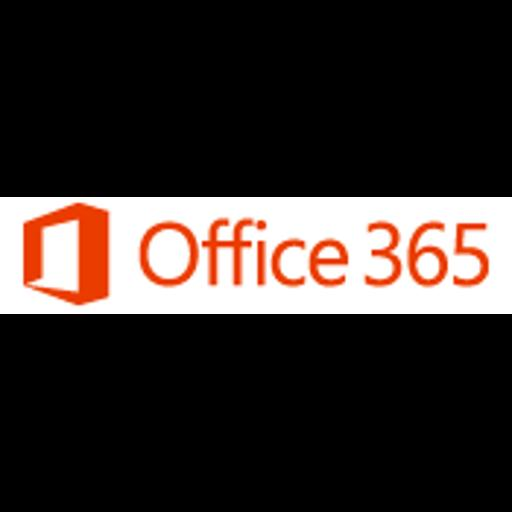Outlook: (0, 197, 512, 314)
